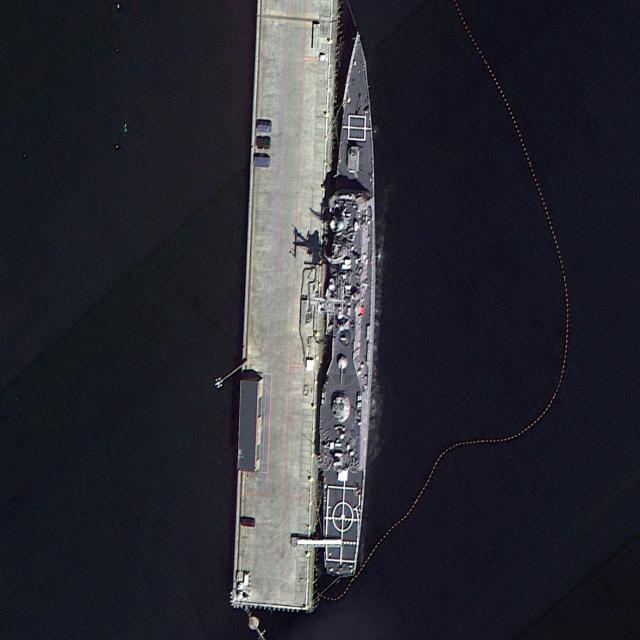Frigate: (313, 29, 385, 576)
